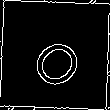O_NE: (21, 21, 89, 89)
